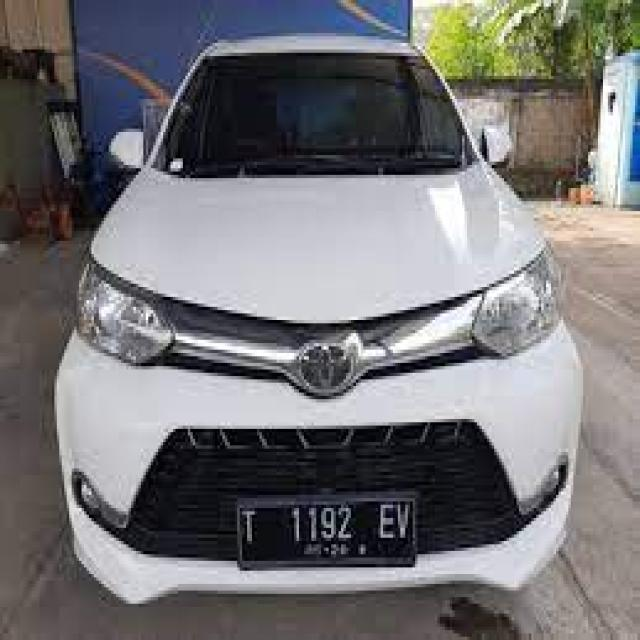license-plat: (232, 483, 428, 587)
